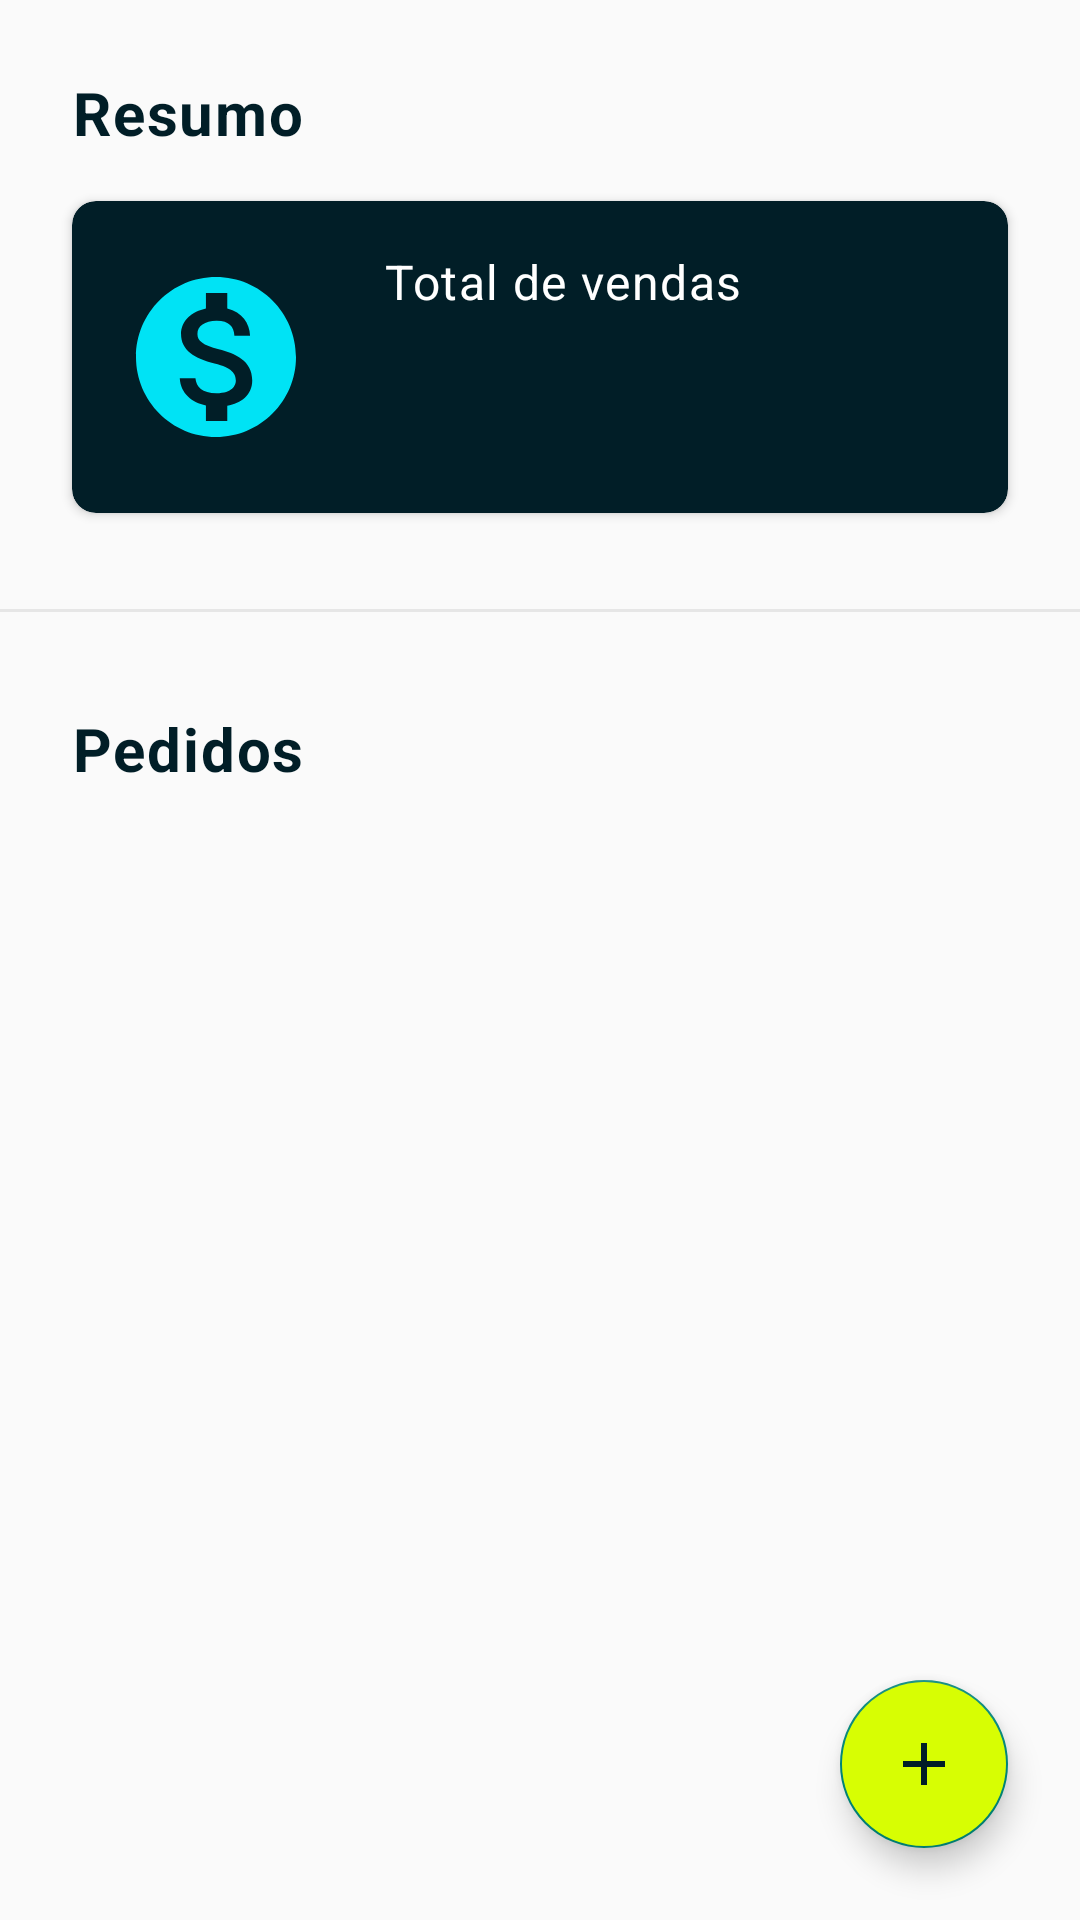

Icons on this 1080px x 1920px Android screen, each with the point to tap as (x=x, y=y):
money: (x=216, y=357)
plus: (x=924, y=1764)
